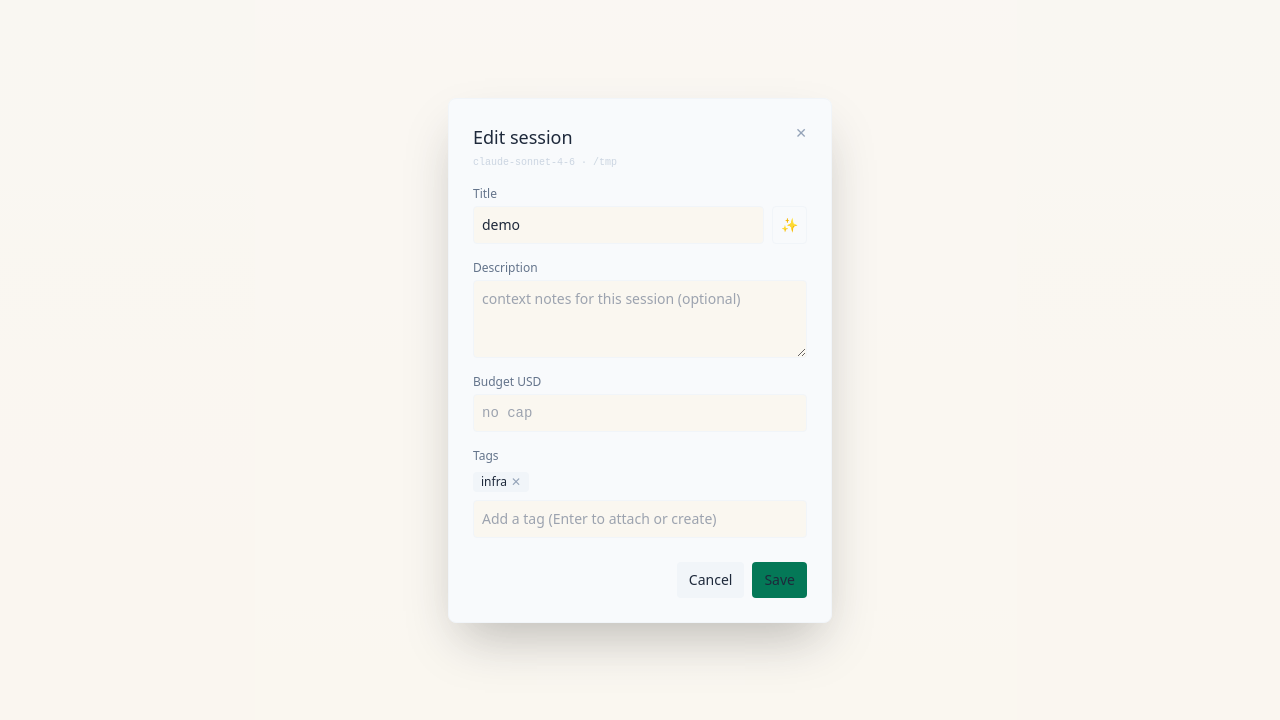
Scenario: SessionEdit tags › renders attached tags on open and detaches on ✕
This screenshot has width=1280, height=720.
Expected: the text "infra" is shown, [481,474,507,490]
Click the button named "Detach infra": (516, 482) [511,474,521,490]
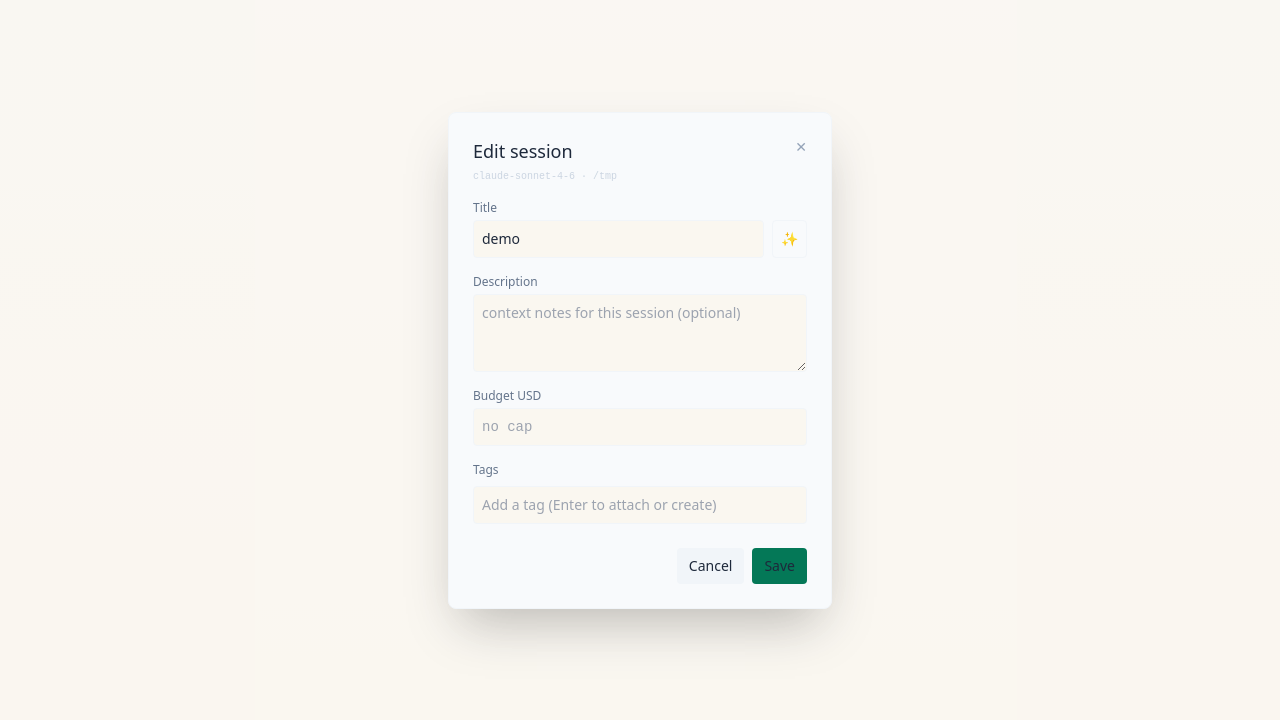
Result: the text "infra" is gone
